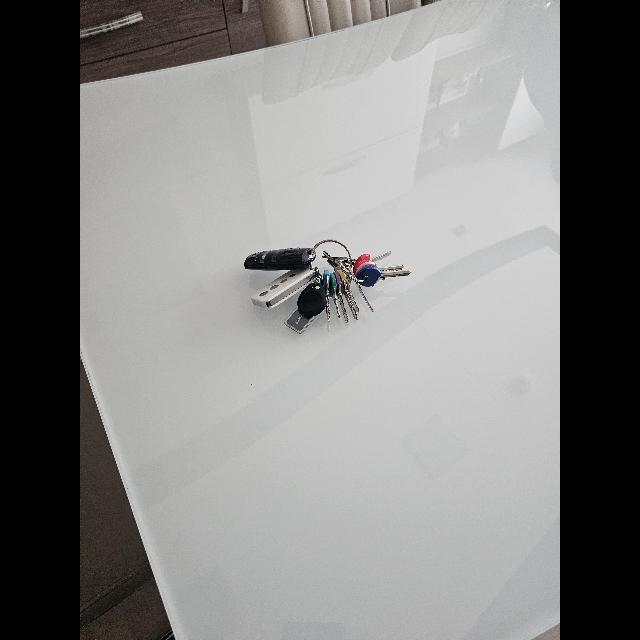Keys: (248, 239, 410, 333)
